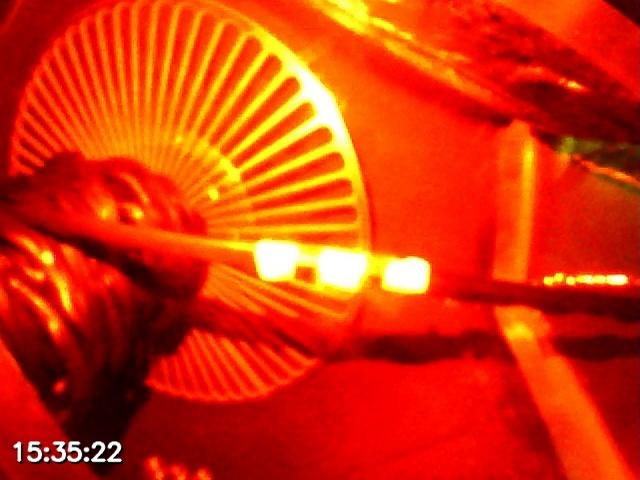white-dots: (253, 239, 432, 296)
